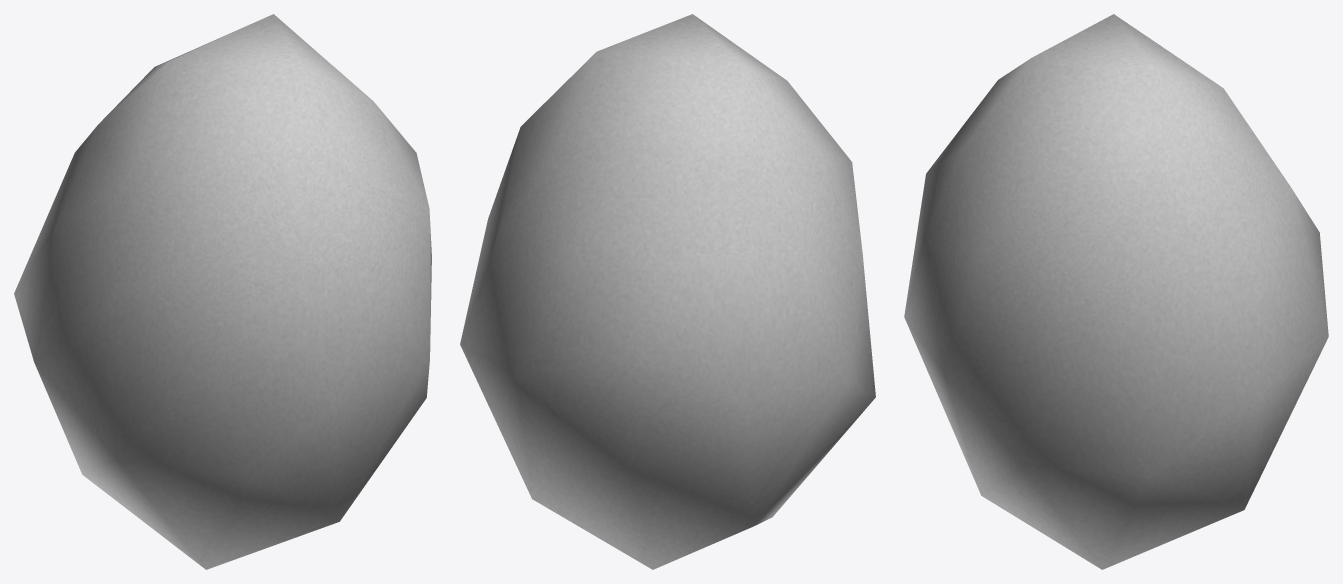
The picture shows the model from 3 angles, left to right: view 1: azimuth 30°, elevation 25°; view 2: azimuth 150°, elevation 25°; view 3: azimuth 270°, elevation 25°; orthographic projection.
Parts seen in each view (by area): view 1: Egg; view 2: Egg; view 3: Egg.
Boxes of the visible parts, box(x1,y1,x2,y2) form: Egg: box(14, 14, 431, 569); Egg: box(460, 14, 875, 569); Egg: box(904, 14, 1328, 569).
Size of the model in its own units: 0.0548 by 0.0698 by 0.0553.
Materials: 1 (1 with a texture image).
